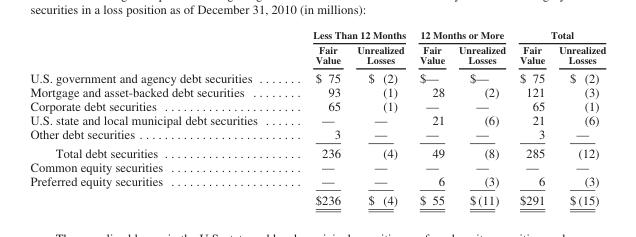table: (29, 28, 605, 206)
table column: (29, 28, 284, 206), (284, 28, 348, 206), (348, 28, 411, 206), (451, 28, 512, 206), (551, 28, 605, 206), (411, 28, 451, 206), (512, 28, 551, 206)
table column header: (29, 28, 605, 68)
table row: (29, 42, 605, 68), (29, 68, 605, 85), (29, 126, 605, 143), (29, 189, 605, 206), (29, 143, 605, 159), (29, 173, 605, 189), (29, 28, 605, 42), (29, 98, 605, 112), (29, 112, 605, 126), (29, 159, 605, 173), (29, 85, 605, 98)
table spanning cell: (284, 28, 411, 42), (411, 28, 512, 42), (512, 28, 605, 42)
